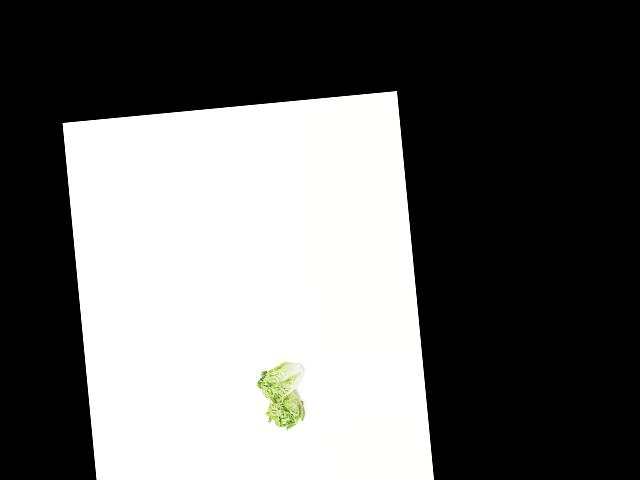lettuce: (262, 385, 311, 431)
